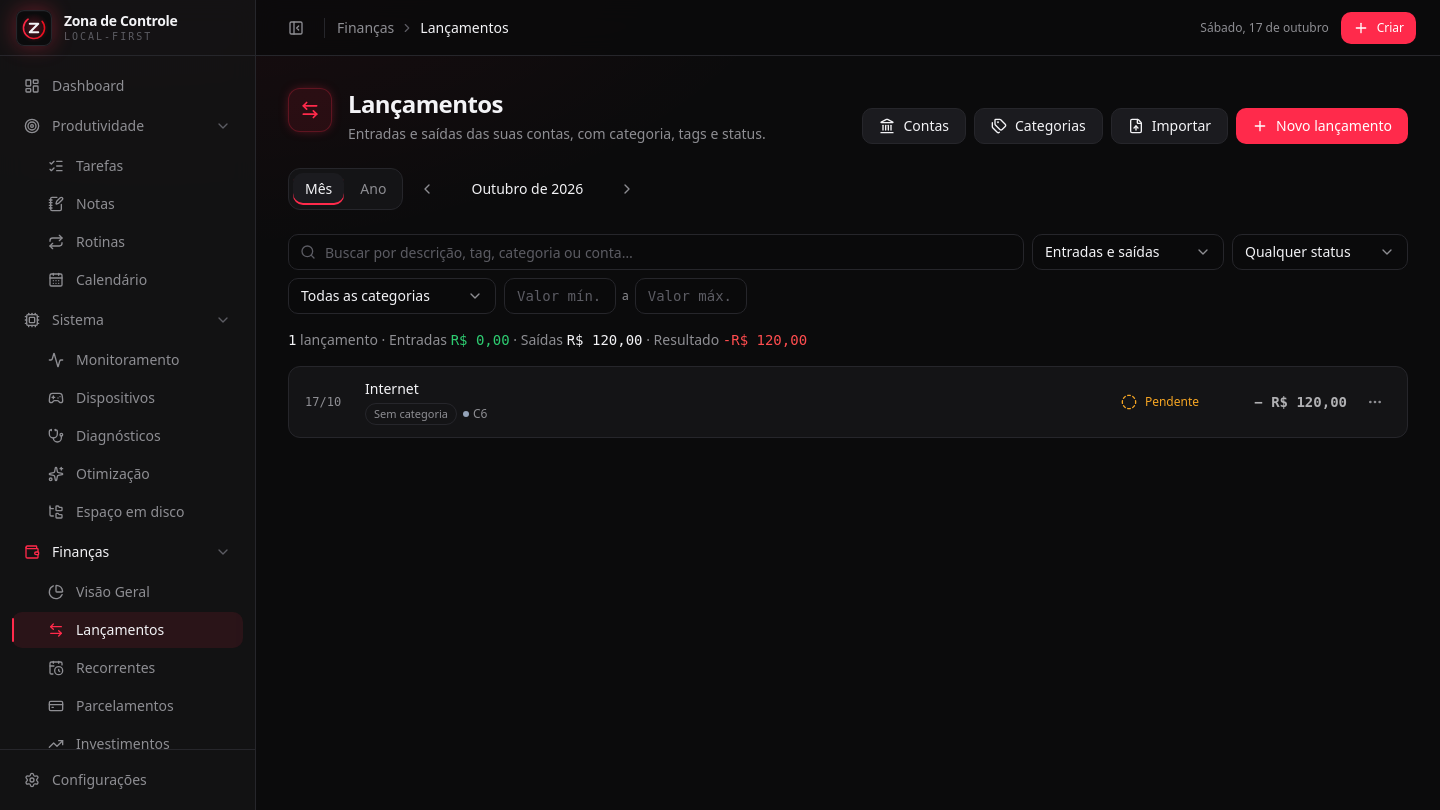
página de Lançamentos › alterna pago e pendente pelo botão de status
Click the button with aria-label "Pendente: marcar “Internet” como pago": (1160, 402) [1113,388,1207,416]
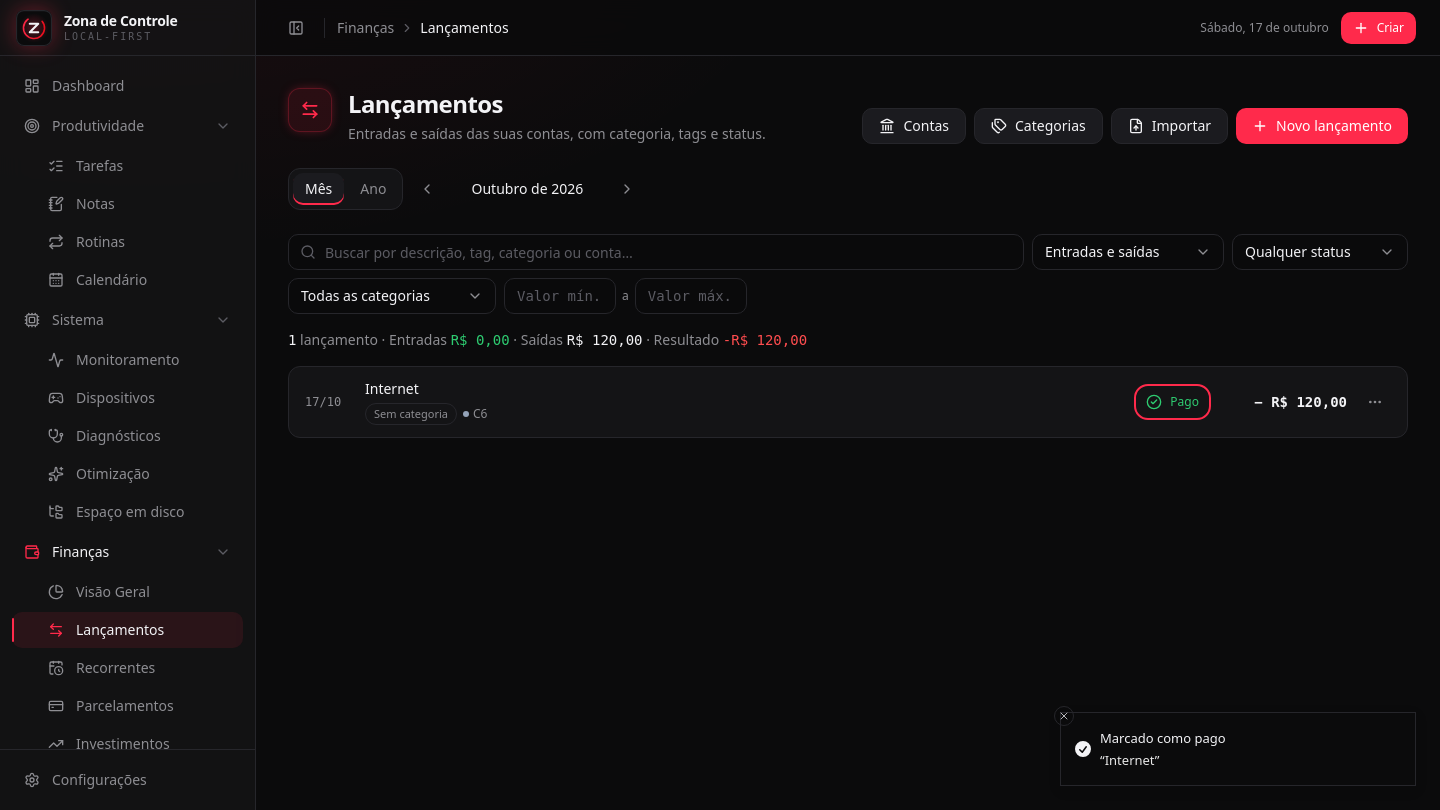
Expected: the button with aria-label "Pago: marcar “Internet” como pendente" is shown, [1138,388,1207,416]
